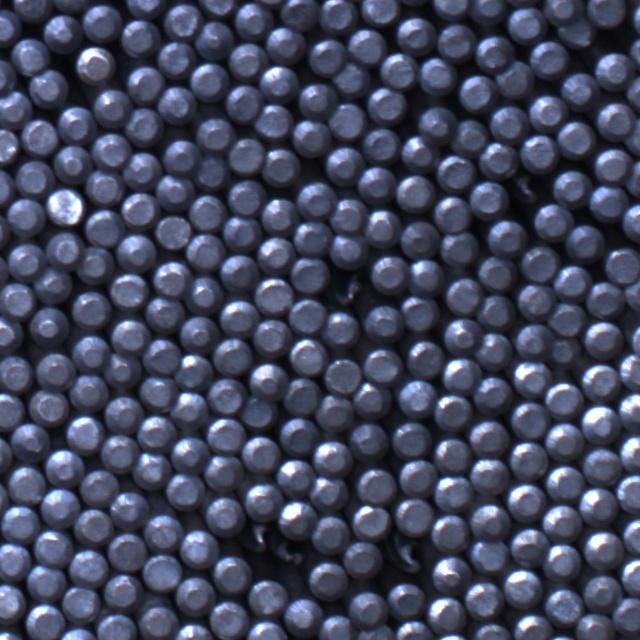tool: (597, 100, 638, 146), (75, 44, 117, 84), (503, 568, 542, 610), (396, 15, 436, 55), (308, 561, 348, 601), (8, 422, 48, 462), (34, 352, 74, 392), (46, 446, 86, 486), (178, 527, 218, 567), (395, 497, 435, 537), (534, 202, 574, 242), (83, 1, 122, 42), (206, 494, 245, 534), (285, 598, 324, 638), (550, 168, 589, 208), (41, 487, 80, 527), (584, 319, 624, 358), (117, 232, 157, 271), (396, 172, 436, 211), (190, 61, 230, 100), (508, 440, 547, 480), (250, 579, 290, 618), (28, 68, 68, 107), (326, 146, 365, 186), (195, 20, 234, 60), (360, 305, 401, 343), (418, 56, 457, 95), (529, 40, 568, 79), (556, 120, 595, 159), (398, 379, 437, 418), (210, 599, 249, 638), (487, 217, 526, 256), (234, 1, 273, 40), (583, 529, 622, 568), (81, 468, 120, 507), (46, 186, 85, 225), (458, 73, 497, 112), (579, 404, 618, 443), (590, 184, 629, 223), (507, 481, 546, 520), (347, 591, 387, 629), (265, 26, 305, 64), (11, 37, 51, 75), (520, 132, 558, 172), (44, 14, 84, 52), (177, 576, 215, 616), (125, 64, 163, 104), (110, 490, 150, 528), (564, 224, 604, 262), (342, 541, 382, 579), (28, 389, 68, 427), (93, 87, 131, 127), (292, 118, 332, 156), (29, 306, 69, 344), (470, 420, 510, 458), (183, 274, 221, 314), (426, 594, 466, 632), (34, 266, 73, 304), (166, 472, 205, 510), (108, 533, 147, 571), (212, 554, 251, 592), (16, 159, 55, 197), (520, 245, 559, 283), (144, 512, 182, 551), (496, 59, 534, 98), (541, 504, 580, 542), (264, 148, 302, 187), (358, 165, 396, 204), (54, 145, 92, 184), (478, 140, 517, 178), (352, 380, 391, 418), (125, 108, 164, 146), (594, 52, 632, 91), (583, 447, 622, 485), (122, 152, 160, 191), (297, 179, 336, 217), (221, 298, 259, 337), (47, 230, 84, 270), (1, 504, 38, 544), (24, 602, 64, 639), (67, 415, 104, 455), (346, 28, 386, 65), (390, 419, 430, 456), (58, 105, 95, 145), (259, 65, 299, 102), (511, 528, 548, 568), (313, 440, 353, 477), (381, 51, 419, 89), (438, 23, 476, 61), (86, 209, 124, 247), (431, 514, 469, 552), (7, 198, 45, 236), (471, 181, 509, 219), (122, 20, 160, 58), (8, 464, 46, 502), (70, 549, 108, 587), (20, 118, 58, 156), (241, 436, 279, 474), (248, 362, 286, 400), (311, 515, 349, 553), (309, 36, 347, 74), (434, 194, 472, 232), (399, 458, 437, 496), (34, 527, 72, 565), (289, 338, 327, 376), (254, 276, 292, 314), (464, 580, 502, 618), (402, 221, 440, 259), (158, 86, 196, 124), (254, 318, 292, 356), (144, 338, 182, 376), (132, 450, 170, 488), (77, 245, 115, 283), (279, 416, 317, 454), (142, 554, 181, 591), (213, 338, 252, 375), (367, 87, 406, 124), (350, 422, 389, 459), (371, 255, 408, 294), (186, 233, 225, 270), (164, 1, 201, 40), (243, 481, 280, 520), (69, 371, 108, 408), (351, 502, 391, 538), (435, 155, 475, 191), (471, 501, 511, 537), (469, 536, 509, 572), (298, 82, 338, 118), (278, 498, 314, 538), (9, 242, 46, 280), (228, 136, 266, 173), (208, 416, 245, 454), (543, 543, 580, 581), (104, 394, 141, 432), (545, 588, 583, 625), (441, 230, 479, 267), (546, 421, 583, 459), (528, 93, 566, 130), (71, 335, 109, 372), (511, 401, 548, 439), (407, 258, 444, 296), (578, 486, 616, 523), (475, 373, 512, 411), (176, 351, 214, 388), (294, 220, 332, 257), (276, 458, 313, 496), (221, 255, 259, 292), (364, 346, 403, 382), (358, 466, 397, 502), (475, 34, 514, 70), (91, 132, 130, 168), (365, 209, 401, 248), (432, 394, 471, 430), (196, 116, 235, 152), (471, 459, 510, 495), (173, 392, 212, 428), (190, 193, 227, 230), (583, 575, 620, 612), (429, 554, 466, 591), (229, 42, 266, 79), (560, 70, 597, 107), (145, 296, 182, 333), (580, 361, 617, 398), (324, 356, 362, 392), (64, 586, 102, 622), (604, 245, 640, 283), (110, 272, 148, 308), (100, 434, 136, 472), (490, 104, 528, 140), (72, 291, 110, 327), (406, 339, 442, 377), (328, 102, 366, 138), (227, 84, 263, 122), (254, 102, 292, 138), (418, 105, 456, 141), (76, 508, 114, 544), (389, 580, 427, 616), (292, 256, 330, 292), (554, 264, 592, 300), (111, 317, 149, 353), (317, 393, 355, 429), (507, 5, 545, 41), (156, 40, 194, 76), (402, 295, 440, 331), (451, 118, 487, 156), (434, 436, 472, 472), (224, 214, 262, 250), (515, 358, 553, 394), (138, 605, 177, 640), (26, 564, 66, 598), (154, 260, 190, 297), (283, 376, 319, 413), (120, 192, 157, 228), (585, 280, 622, 316), (593, 146, 630, 182), (364, 126, 401, 162), (179, 316, 216, 352), (137, 414, 174, 450), (546, 462, 583, 498), (173, 434, 210, 470), (208, 378, 246, 413), (544, 378, 582, 413), (476, 292, 514, 327), (85, 169, 123, 204), (331, 61, 370, 95), (104, 574, 140, 610), (228, 179, 264, 215), (258, 236, 294, 272), (444, 276, 480, 312), (323, 309, 358, 346), (441, 355, 478, 390), (478, 256, 516, 290), (290, 298, 326, 333), (517, 283, 553, 318), (262, 196, 297, 232), (320, 0, 359, 32), (0, 88, 31, 128), (1, 281, 35, 317), (331, 198, 367, 232), (156, 214, 192, 248), (548, 302, 585, 335), (617, 103, 640, 155), (164, 138, 198, 173), (515, 322, 550, 356), (0, 543, 31, 581), (195, 156, 228, 191), (0, 354, 32, 390), (585, 0, 626, 28), (279, 0, 318, 29), (612, 597, 640, 637), (96, 612, 135, 640), (242, 395, 276, 427), (575, 613, 613, 640), (320, 613, 358, 640), (515, 613, 553, 640), (544, 0, 585, 25), (359, 0, 398, 25), (0, 582, 25, 620), (470, 0, 508, 25), (0, 312, 23, 352), (616, 472, 640, 509), (0, 392, 23, 430), (247, 619, 288, 640), (12, 0, 52, 21), (0, 9, 22, 47), (396, 619, 434, 640), (619, 351, 640, 389), (124, 0, 170, 17), (620, 435, 640, 473), (622, 557, 640, 598), (174, 622, 214, 640), (0, 128, 19, 164), (474, 622, 512, 640), (431, 0, 471, 17), (623, 201, 640, 240), (623, 518, 640, 556), (198, 0, 240, 15), (0, 167, 15, 206), (0, 57, 15, 95), (626, 157, 640, 197), (624, 278, 640, 312), (360, 625, 396, 640), (55, 627, 96, 640), (626, 72, 640, 109), (0, 433, 12, 476), (54, 0, 94, 12), (629, 33, 640, 69), (0, 210, 8, 250), (0, 252, 8, 291), (435, 632, 473, 640), (632, 0, 640, 37), (0, 477, 7, 518), (547, 634, 579, 640)
tool_b: (385, 537, 424, 576), (510, 172, 546, 204), (268, 539, 305, 569), (332, 270, 362, 306), (242, 522, 271, 554)
